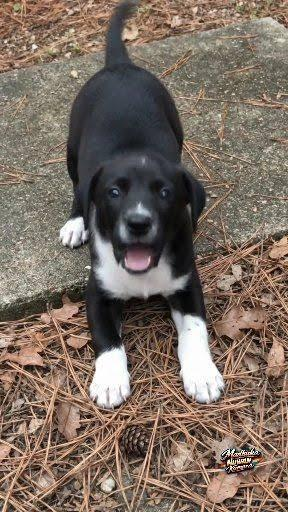puppy-dog: (55, 1, 229, 414)
